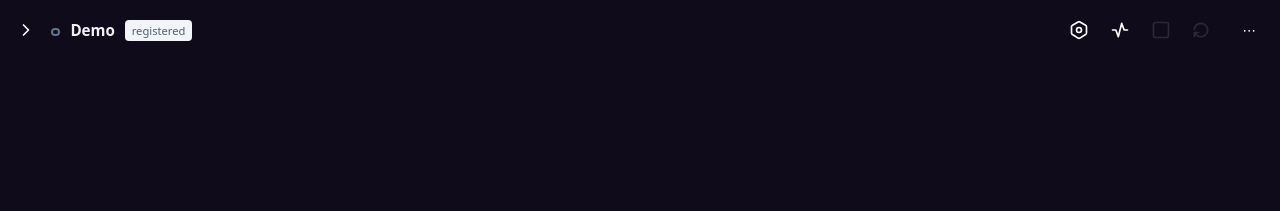
registered project observations › uses registered profile metadata while Compose definition is still loading
Click the button named "Expand Demo". click: {"x": 27, "y": 30}
box: [13,17,41,44]
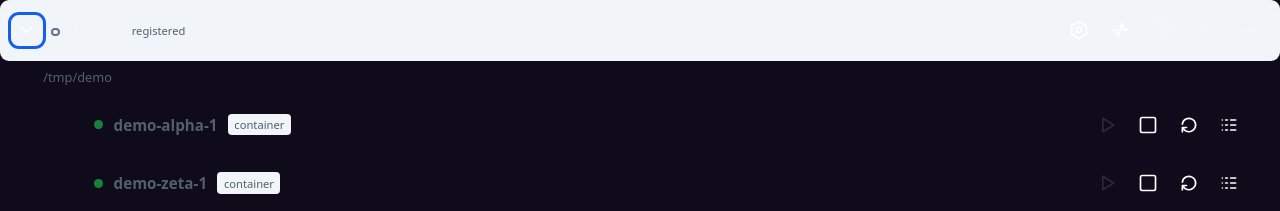
Expected: the heading "demo-alpha-1" is shown, [114,115,218,135]
